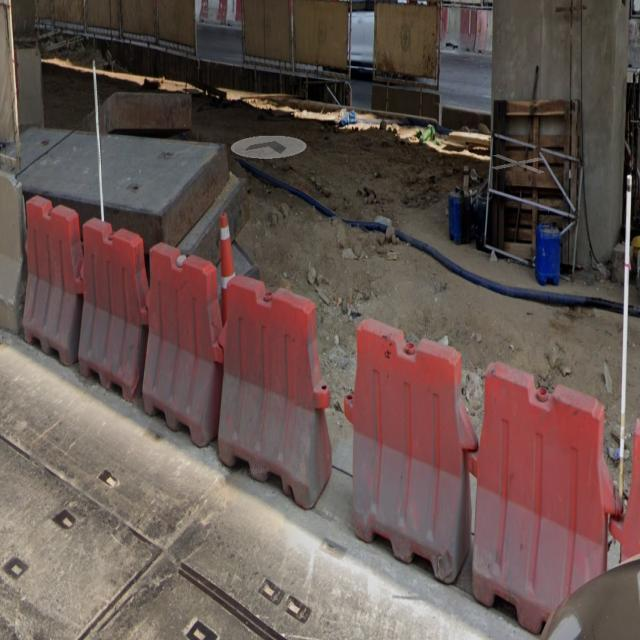fallen_object: (460, 341, 639, 640), (76, 215, 228, 438), (350, 315, 461, 592), (213, 276, 326, 517), (0, 169, 80, 388), (210, 193, 248, 332)
